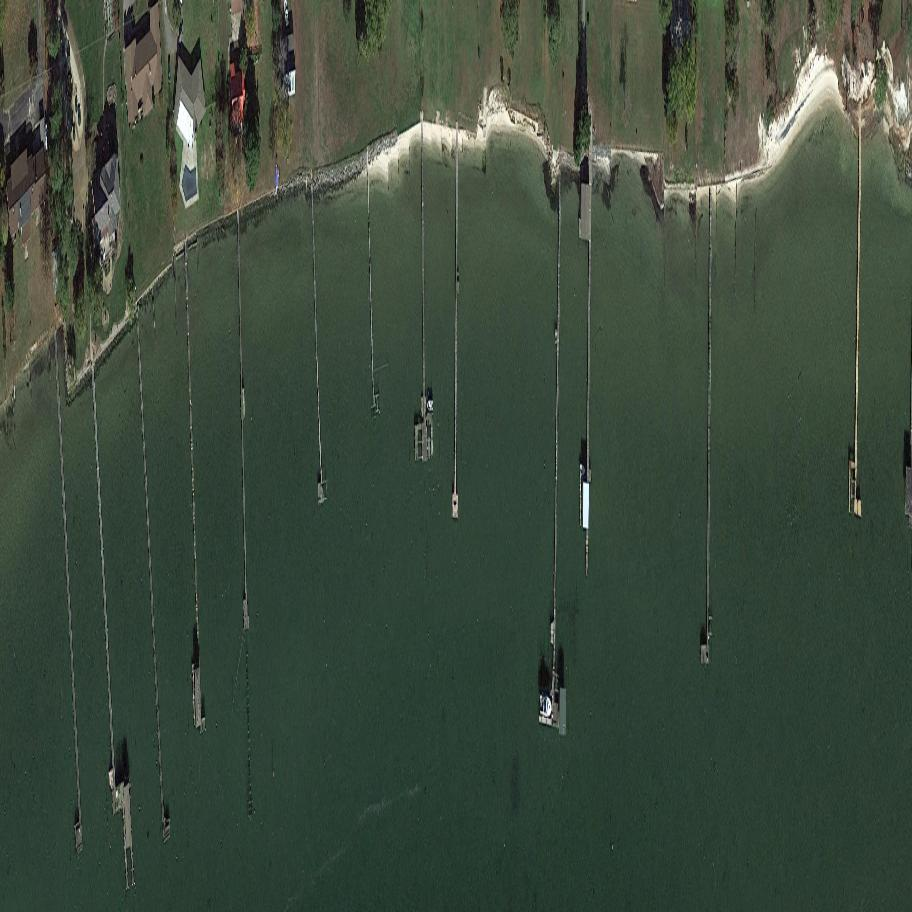ship: (538, 692, 552, 720), (44, 120, 48, 153), (275, 161, 279, 192), (427, 399, 434, 412), (579, 463, 585, 478)
small-vehicle: (177, 20, 186, 48), (168, 56, 171, 84)
